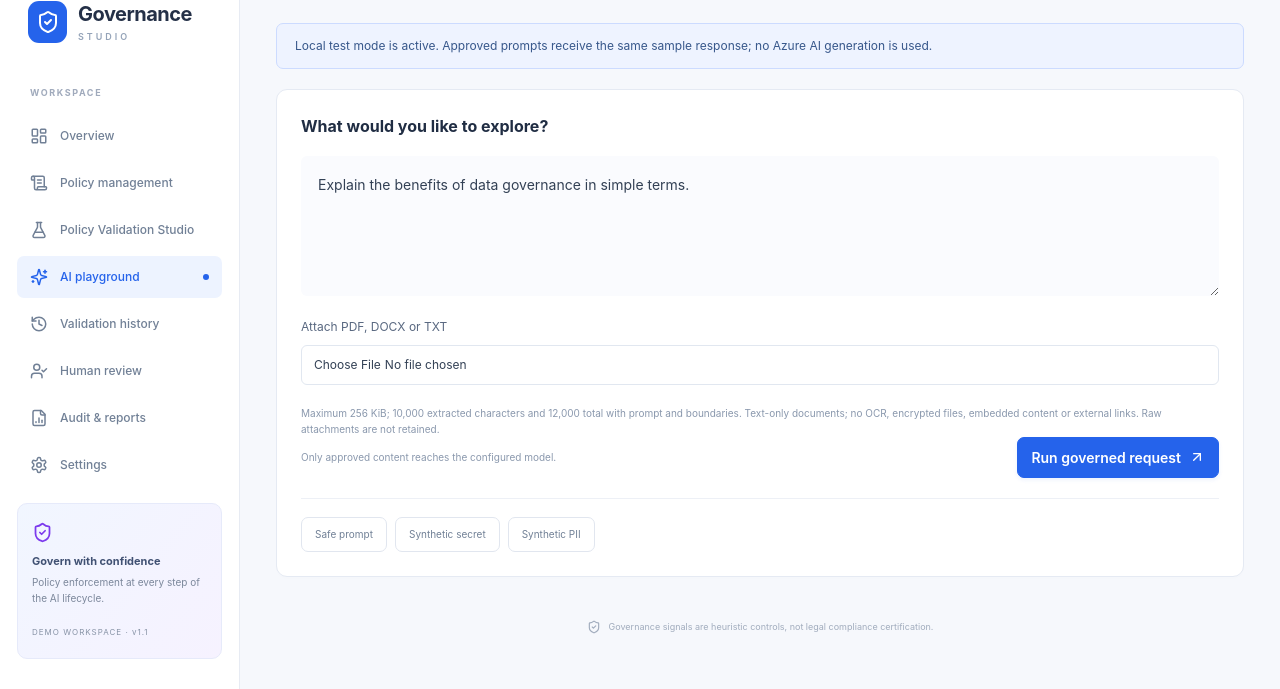
Test: retains schema-005 legacy routing without the technical mode panel
The width and height of the screenshot is (1280, 689).
(page scrolled)
Click the button "Run governed request" at (1118,457), box [1017,437,1219,478]
(page scrolled)
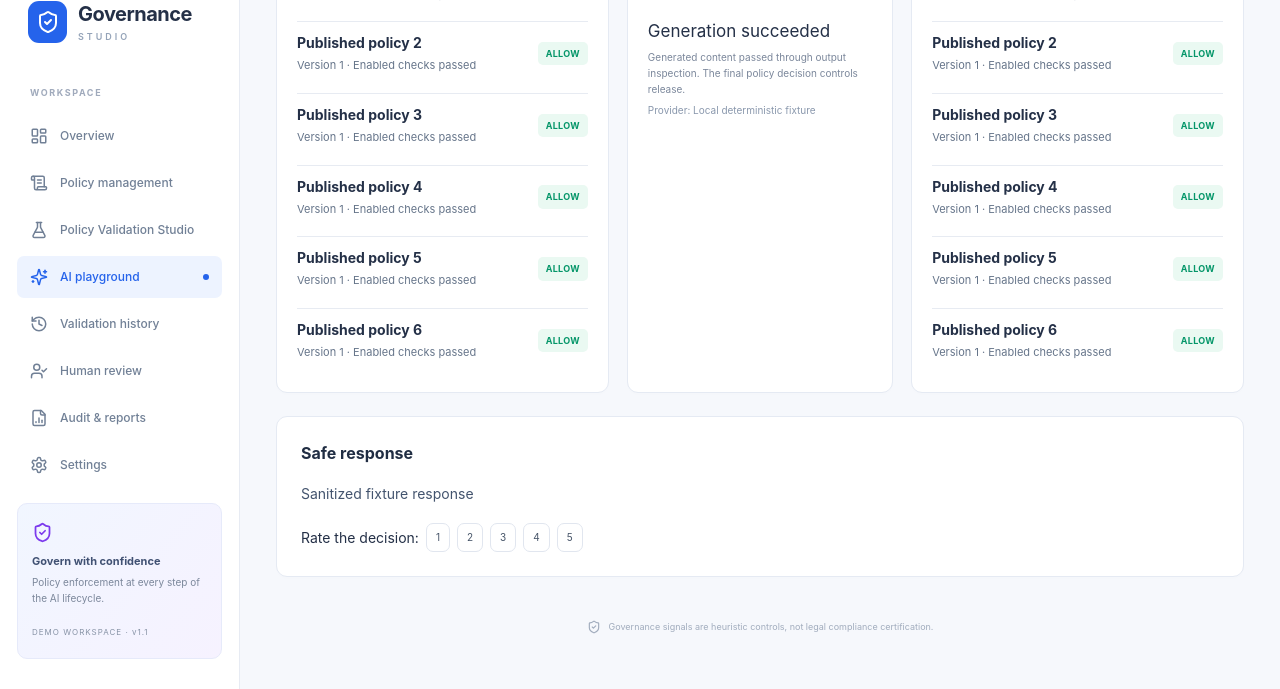
Check: the text "Sanitized fixture response" is shown, box [301,485,474,502]
